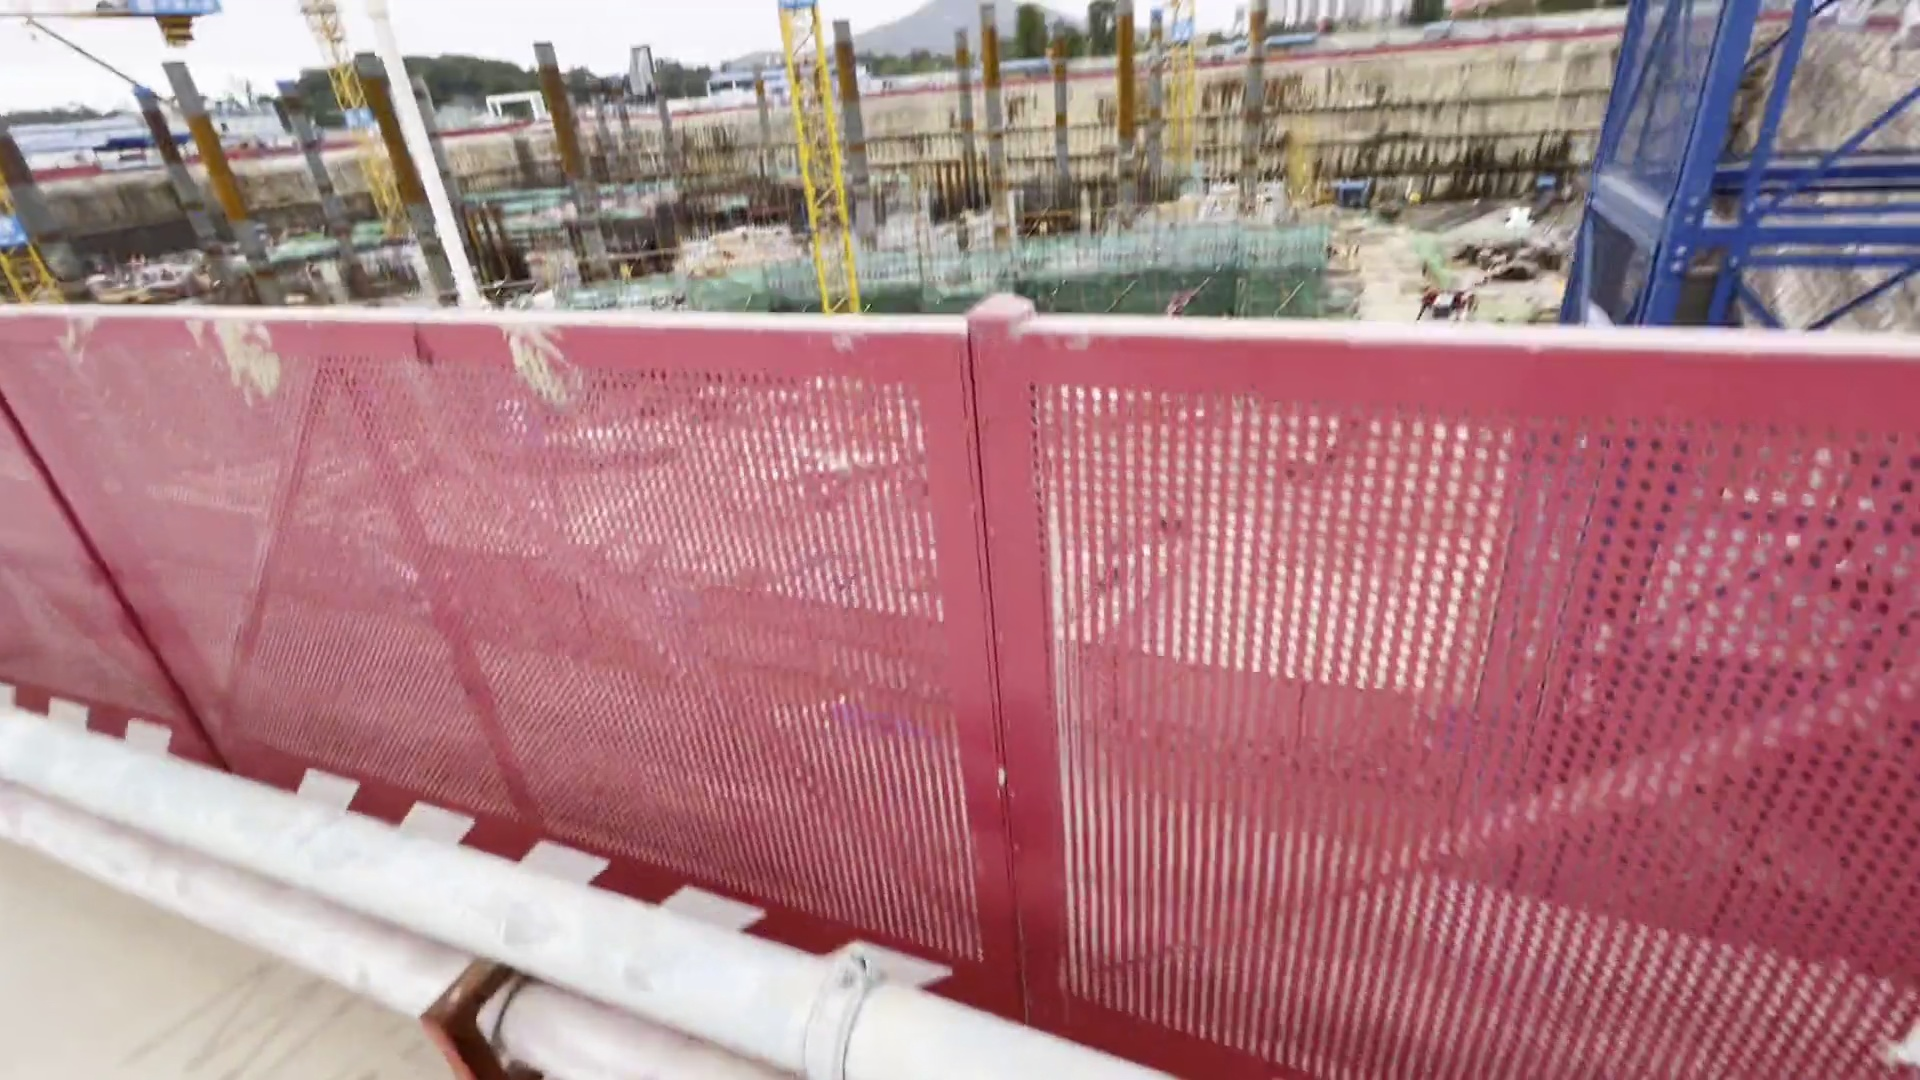fence: (1, 297, 1869, 1044)
slogan: (123, 1, 229, 15), (1, 216, 30, 245), (340, 109, 377, 131)
